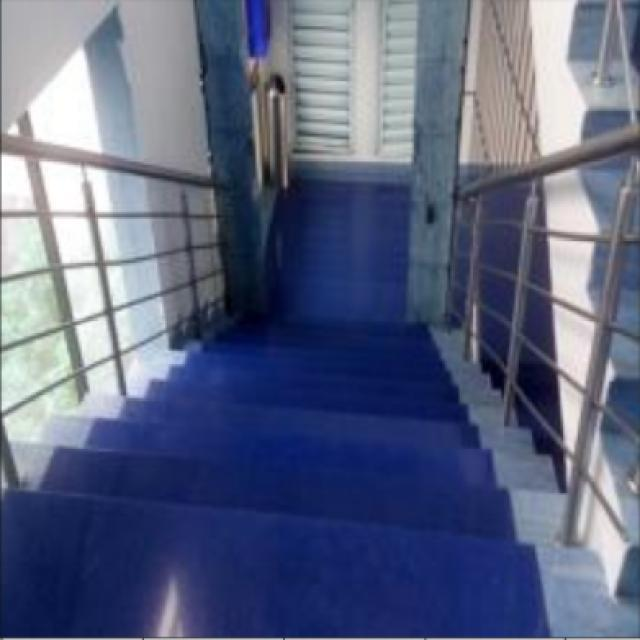stair: (46, 354, 496, 583)
